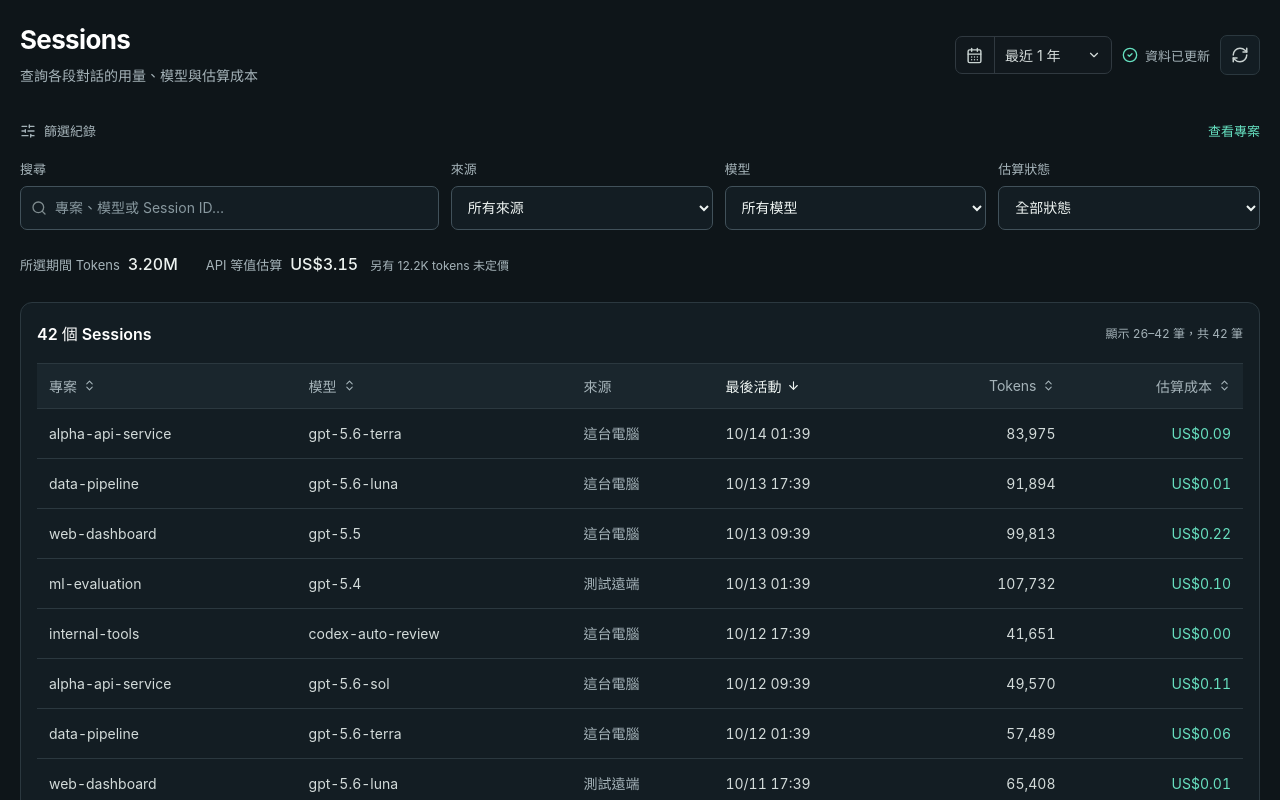
clamps an out-of-range page and totals all results rather than the visible page
The width and height of the screenshot is (1280, 800).
Select "測試遠端" in the dropdown labelled "來源" at (582,208), box [451,186,712,230]
(page scrolled)
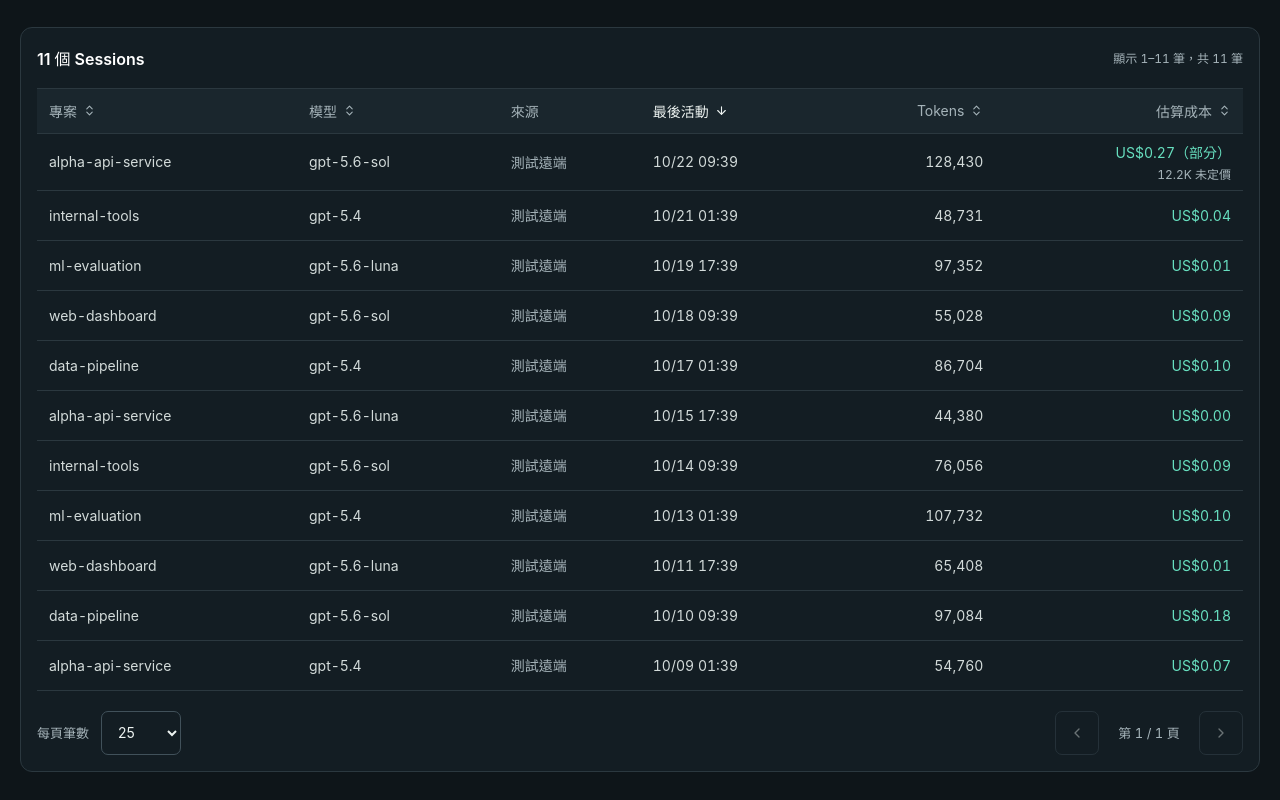
Check: the text "第 1 / 1 頁" is shown, box [1118,725,1180,741]
